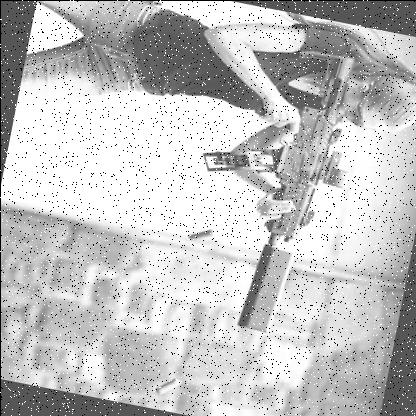rifle: (153, 27, 384, 352)
